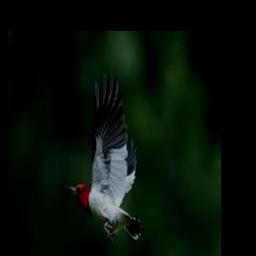Woodpecker: (68, 72, 145, 241)
